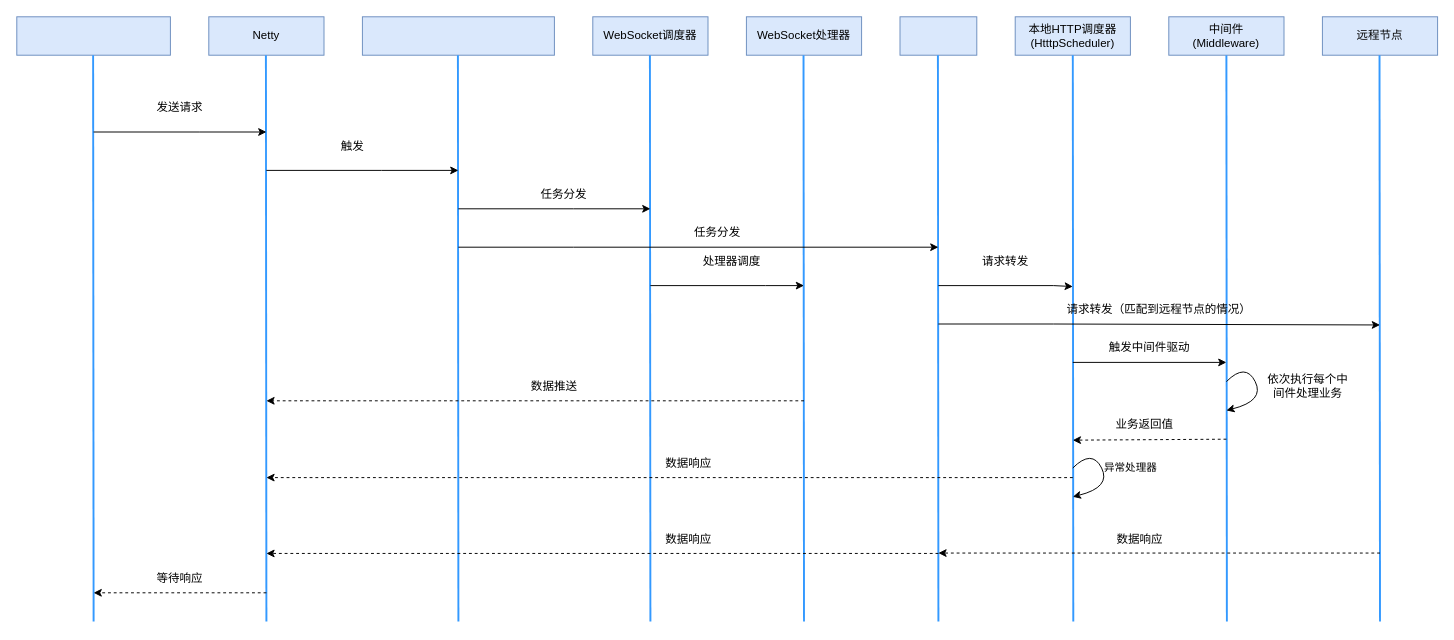
This 1454x640 diagram has some shape labels left out. Here are the shapes that lost their labels. From the top down, the centre of each, then its label:
At (93,35): "客户端".
At (457,35): "HTTP协议分发器 (HttpProtocolDispatcher)".
At (938,35): "网关 (Gateway)".
